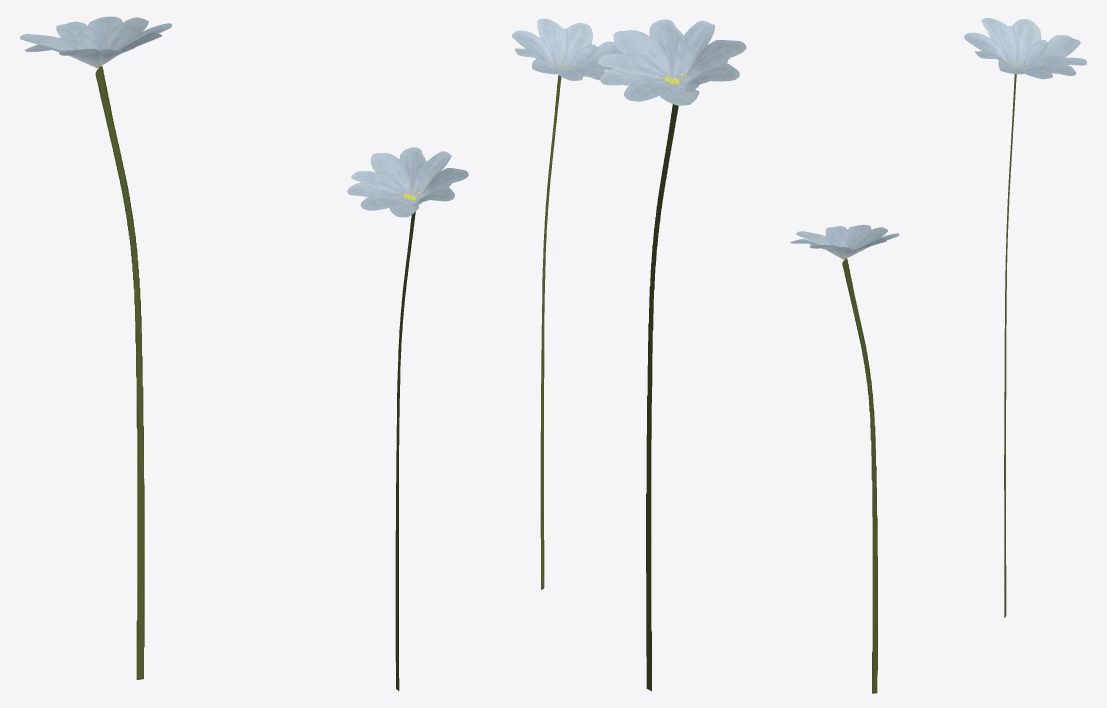
The model's file is SM_Flower_01.fbx.
3 views of the same model, side by side, from view 1: azimuth 30°, elevation 25°; view 2: azimuth 150°, elevation 25°; view 3: azimuth 270°, elevation 25° (orthographic). The views are drawn at different scales.
Parts seen in each view (by area): view 1: SM_Flower_01_LOD0; view 2: SM_Flower_01_LOD0; view 3: SM_Flower_01_LOD0.
Boxes of the visible parts, x1=… form: SM_Flower_01_LOD0: x1=20, y1=16, x2=468, y2=690; SM_Flower_01_LOD0: x1=511, y1=18, x2=746, y2=690; SM_Flower_01_LOD0: x1=790, y1=18, x2=1086, y2=693.
Bounding box in the file's own units: 23.79 × 21.76 × 44.44.
